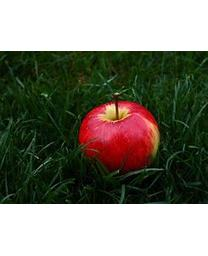apple: (77, 94, 160, 173)
